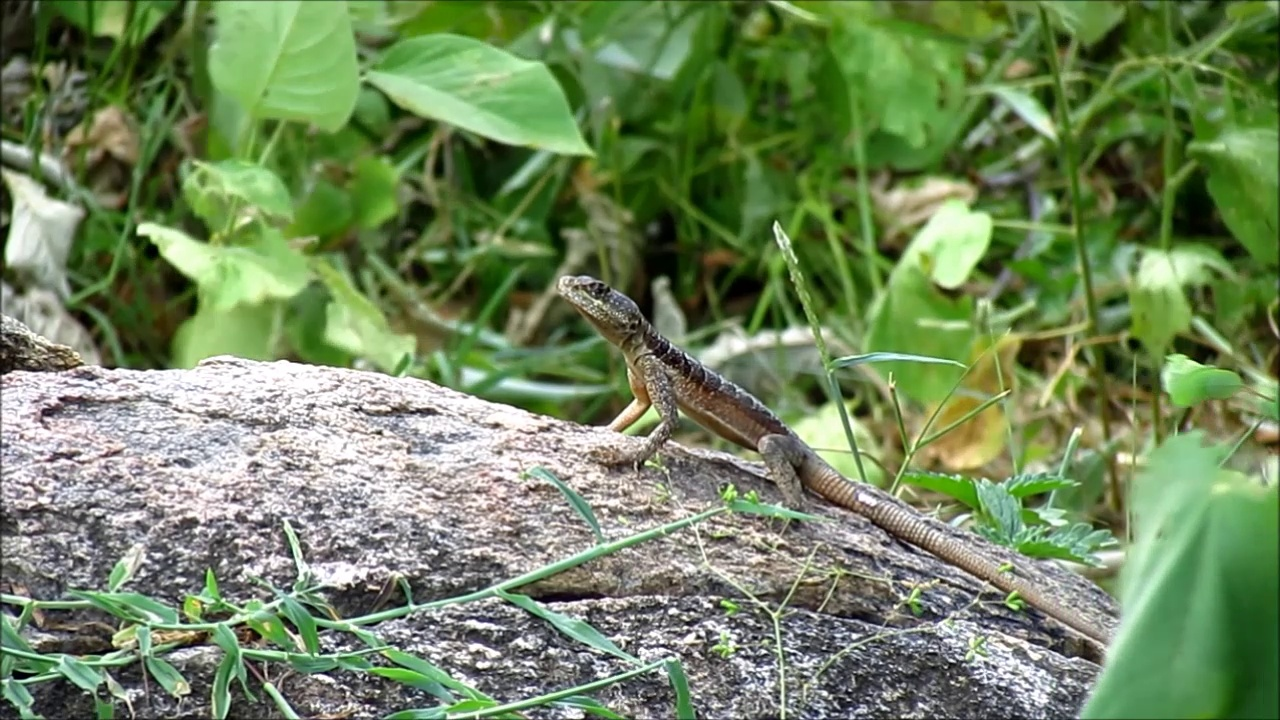body: (589, 315, 1110, 649)
head: (558, 275, 642, 341)
